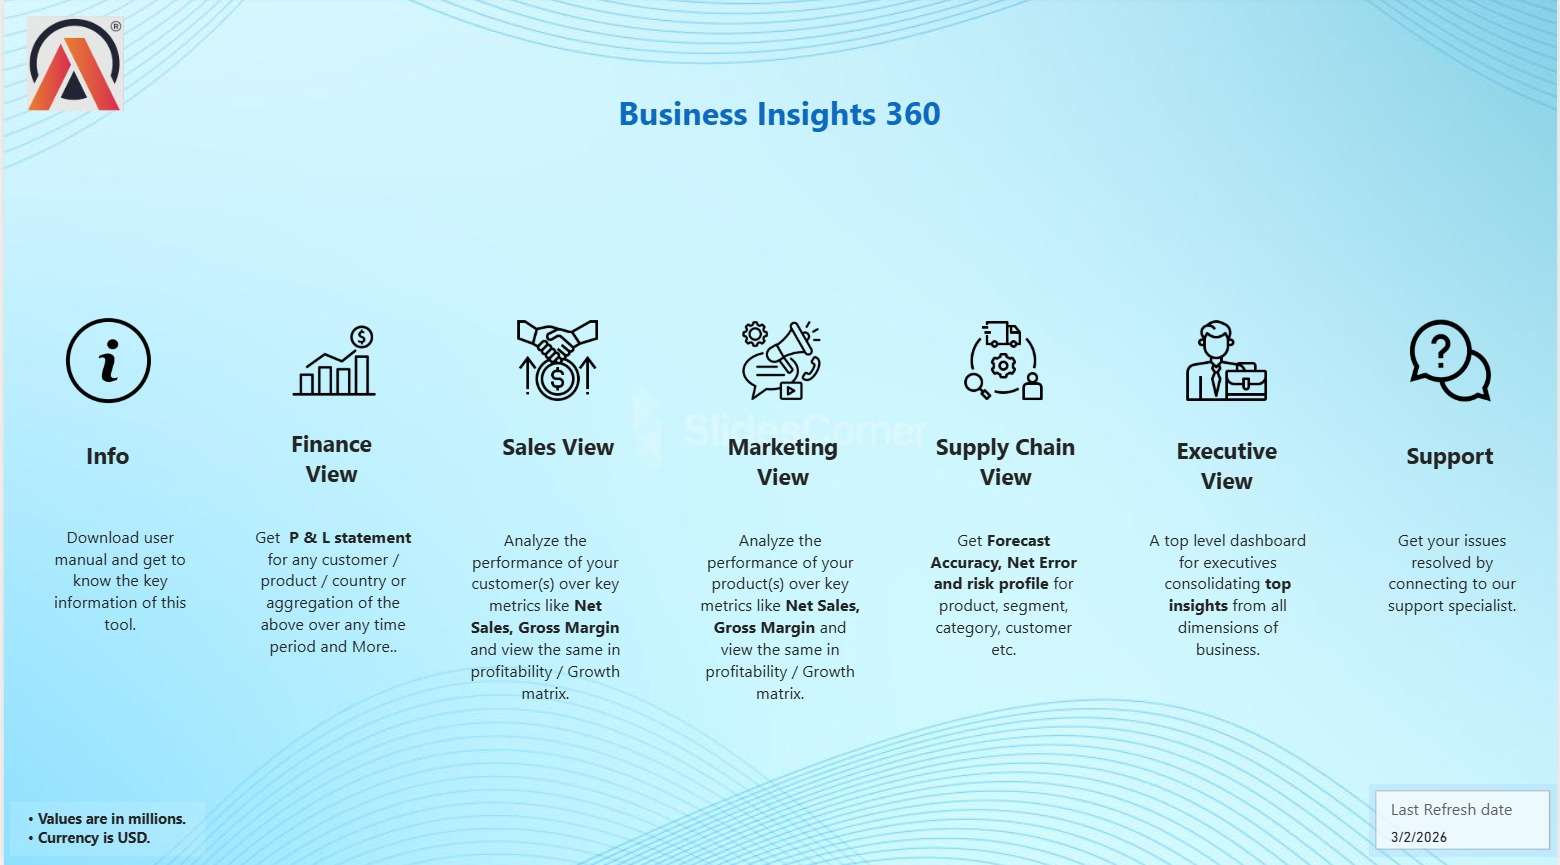

This screenshot's page, from the dashboard's own definition file:
{"tool":"powerbi","page":{"name":"Home Page ","canvas":[1280,720],"ordinal":0},"visuals":[{"type":"image","box":[45.7,259.9,80.3,83.5],"z":0},{"type":"image","box":[232.1,259.9,78.8,83.5],"z":1000},{"type":"image","box":[1153,259.9,77.2,83.5],"z":2000},{"type":"image","box":[968.2,259.9,78.8,83.5],"z":3000},{"type":"image","box":[784.9,259.9,77.2,83.5],"z":4000},{"type":"image","box":[601.7,259.9,77.2,83.5],"z":5000},{"type":"image","box":[416.9,259.9,78.8,83.5],"z":6000},{"type":"image","box":[6.3,12.6,105.5,88.2],"z":7000},{"type":"textbox","box":[437.9,72.5,403.2,56.7],"z":8000},{"type":"textbox","box":[44.1,360.7,81.9,58.3],"z":9000},{"type":"textbox","box":[214.2,351.2,111.8,80.3],"z":10000},{"type":"textbox","box":[396.9,352.8,119.7,80.3],"z":11000},{"type":"textbox","box":[585.9,352.8,111.8,80.3],"z":12000},{"type":"textbox","box":[754.5,352.8,140.2,94.5],"z":13000},{"type":"textbox","box":[946.6,357.5,121.3,86.6],"z":14000},{"type":"textbox","box":[1143.5,360.7,96.1,58.3],"z":15000},{"type":"textbox","box":[24.6,431.9,142,158],"z":16000},{"type":"textbox","box":[200,431.9,142,158],"z":17000},{"type":"textbox","box":[375.4,433.3,140.6,168.1],"z":18000},{"type":"textbox","box":[568.1,433.3,142,156.5],"z":19000},{"type":"textbox","box":[752.2,433.3,142,156.5],"z":20000},{"type":"textbox","box":[937.7,433.3,140.6,156.5],"z":21000},{"type":"textbox","box":[1121.7,433.3,142,121.7],"z":22000},{"type":"textbox","box":[4.3,665.2,160.9,44.9],"z":23000},{"type":"cardVisual","fields":{"Data":["Min(last_refresh_date.last_refresh_date)"]},"box":[1124.6,650.5,154.4,59.9],"z":24000}]}

Visuals, with their boxes in screenshot pixels (x1, y1, x2, y2), scaled from the page's 1280x720 canvas onto the 1560x865 screenshot:
image: 56, 312, 154, 413
image: 283, 312, 379, 413
image: 1405, 312, 1499, 413
image: 1180, 312, 1276, 413
image: 957, 312, 1051, 413
image: 733, 312, 827, 413
image: 508, 312, 604, 413
image: 8, 15, 136, 121
textbox: 534, 87, 1025, 155
textbox: 54, 433, 154, 503
textbox: 261, 422, 397, 518
textbox: 484, 424, 630, 520
textbox: 714, 424, 850, 520
textbox: 920, 424, 1090, 537
textbox: 1154, 429, 1302, 534
textbox: 1394, 433, 1511, 503
textbox: 30, 519, 203, 709
textbox: 244, 519, 417, 709
textbox: 458, 521, 629, 723
textbox: 692, 521, 865, 709
textbox: 917, 521, 1090, 709
textbox: 1143, 521, 1314, 709
textbox: 1367, 521, 1540, 667
textbox: 5, 799, 201, 853
cardVisual - Min(last_refresh_date.last_refresh_date): 1371, 782, 1559, 853
